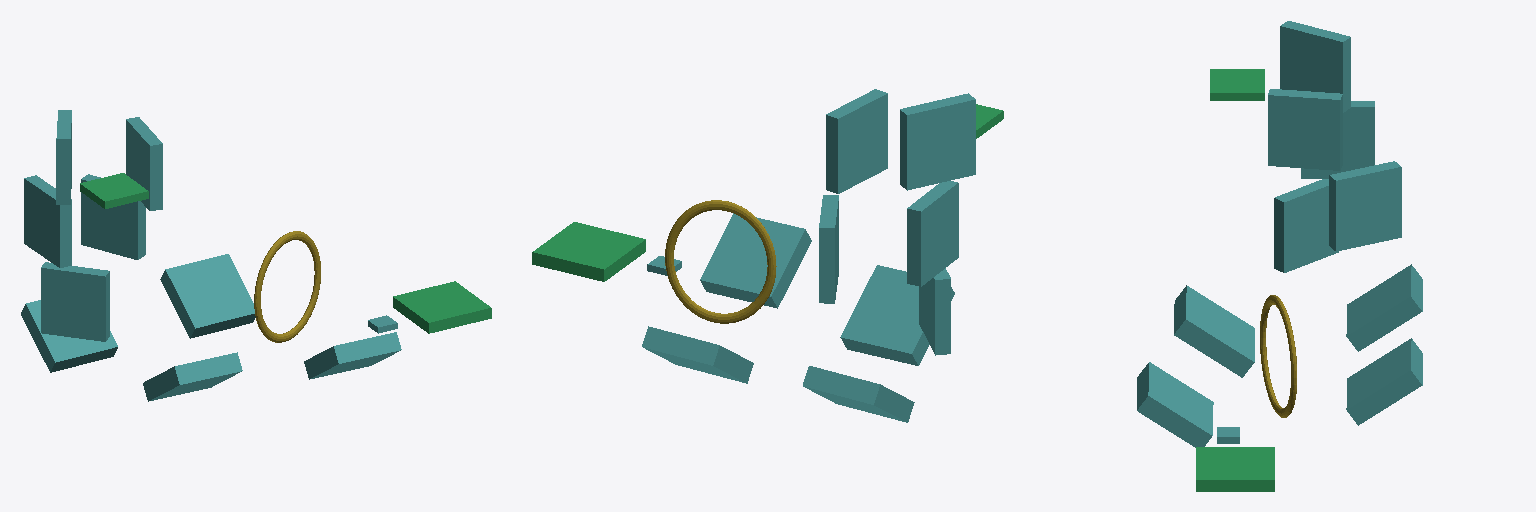
robot.urdf — object:
<?xml version="1.0"?>
<robot name="object">
  <link name="base_link"> <!-- required name-->
    <inertial>
      <origin xyz="0 0 0" /> 
      <mass value="1.0" />
      <inertia  ixx="1.0" ixy="0.0"  ixz="0.0"  iyy="1.0"  iyz="0.0"  izz="1.0" />
    </inertial>
    <visual>
      <origin xyz="0 0 0"/>
      <geometry>
        <mesh filename="package://animals_description/meshes/scene_jump.dae"/>
      </geometry>
    </visual>
    <collision>
      <origin xyz="0 0 0"/>
      <geometry>
        <mesh filename="package://animals_description/meshes/scene_jump.dae"/>
      </geometry>
    </collision>
  </link>
</robot>

--- What the picture shows (computed from the rendered views, not written in the file) ---
3 views of the same robot in one strip: view 1: azimuth 30°, elevation 25°; view 2: azimuth 150°, elevation 25°; view 3: azimuth 270°, elevation 25° (orthographic).
Model object with 1 links and 0 joints (none), rooted at base_link, posed every joint at zero.
Visible links, largest first — view 1: base_link; view 2: base_link; view 3: base_link.
Link boxes in pixels (x1,y1,x2,y2): base_link: (21, 110, 491, 401); base_link: (532, 89, 1003, 422); base_link: (1137, 21, 1422, 491).
Bounding box of the posed robot: 12.52 × 7.33 × 8.1 m (x, y, z).
Meshes: 1 distinct files referenced, 1 mesh visuals loaded (1 Collada DAE).